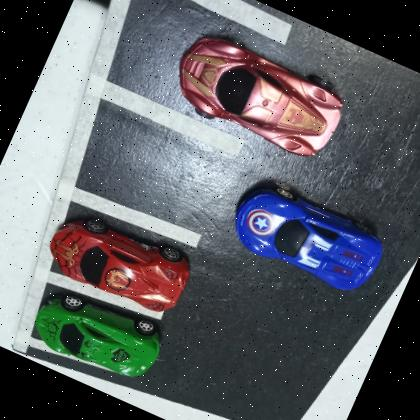Car: (160, 22, 355, 171), (220, 172, 394, 304), (25, 278, 170, 391)
